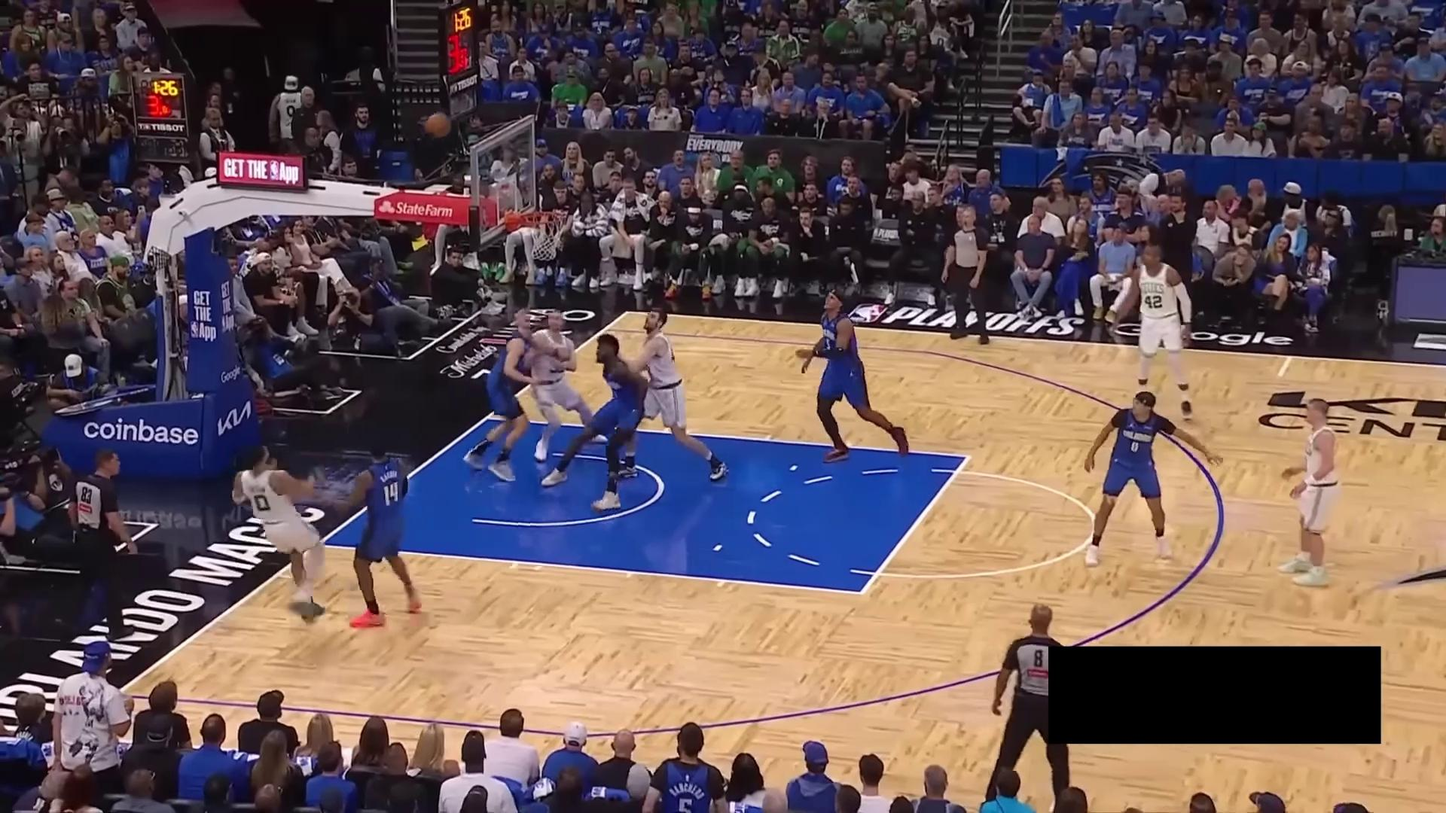ball: (424, 111, 451, 140)
number: (378, 480, 400, 507), (250, 490, 271, 513), (1144, 294, 1164, 310), (1131, 442, 1139, 452)
player: (1080, 389, 1226, 568), (607, 306, 731, 482), (791, 287, 912, 463), (540, 332, 648, 512), (231, 443, 326, 624), (462, 306, 557, 483), (338, 435, 424, 628), (1109, 244, 1196, 423), (523, 309, 608, 462), (1277, 397, 1342, 587)
referee: (976, 597, 1081, 806), (58, 447, 141, 647), (938, 201, 996, 345)
rim: (523, 208, 561, 226)
